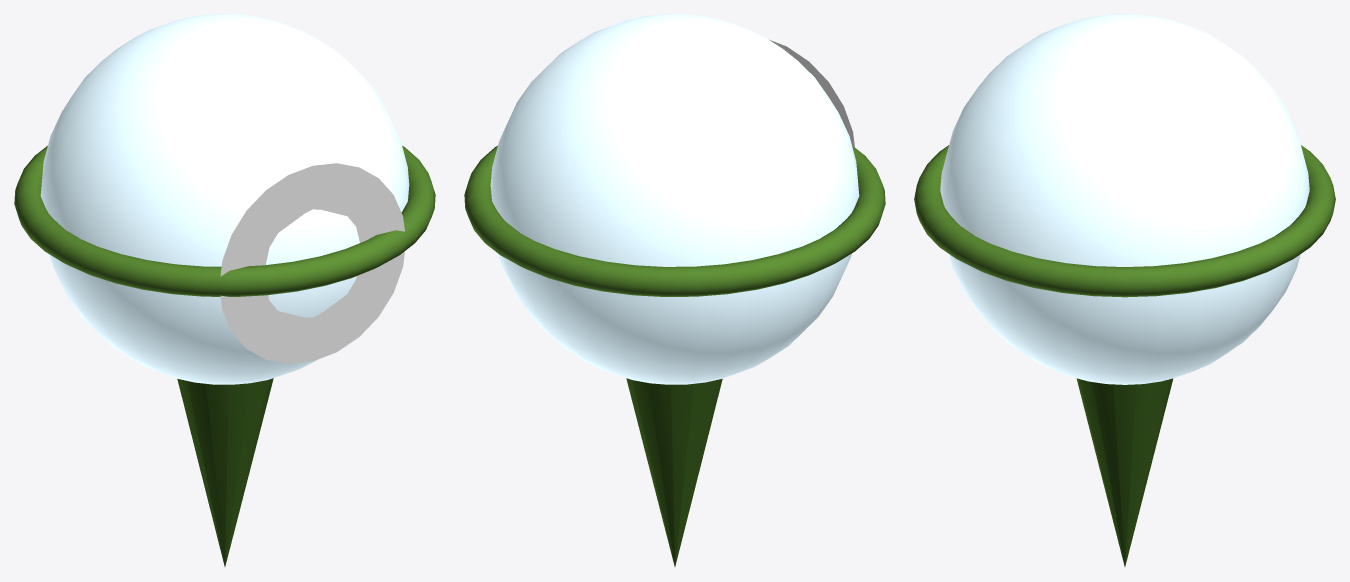
File: snowflake.glb
3 renders of one model, left to right at view 1: azimuth 30°, elevation 25°; view 2: azimuth 150°, elevation 25°; view 3: azimuth 270°, elevation 25°, orthographic.
Visible parts, largest first — view 1: hazardPin; view 2: hazardPin; view 3: hazardPin.
Boxes of the visible parts, box(x1,y1,x2,y2) form: hazardPin: box(14, 14, 435, 566); hazardPin: box(464, 14, 885, 566); hazardPin: box(914, 14, 1335, 566).
Size of the model in its own units: 1.25 by 1.76 by 1.25.
